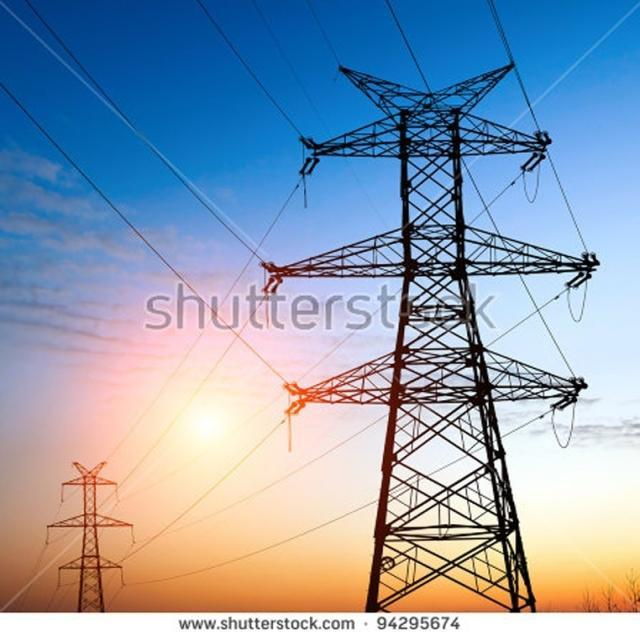non-critical vegetation: (305, 87, 578, 603), (44, 458, 138, 614)
